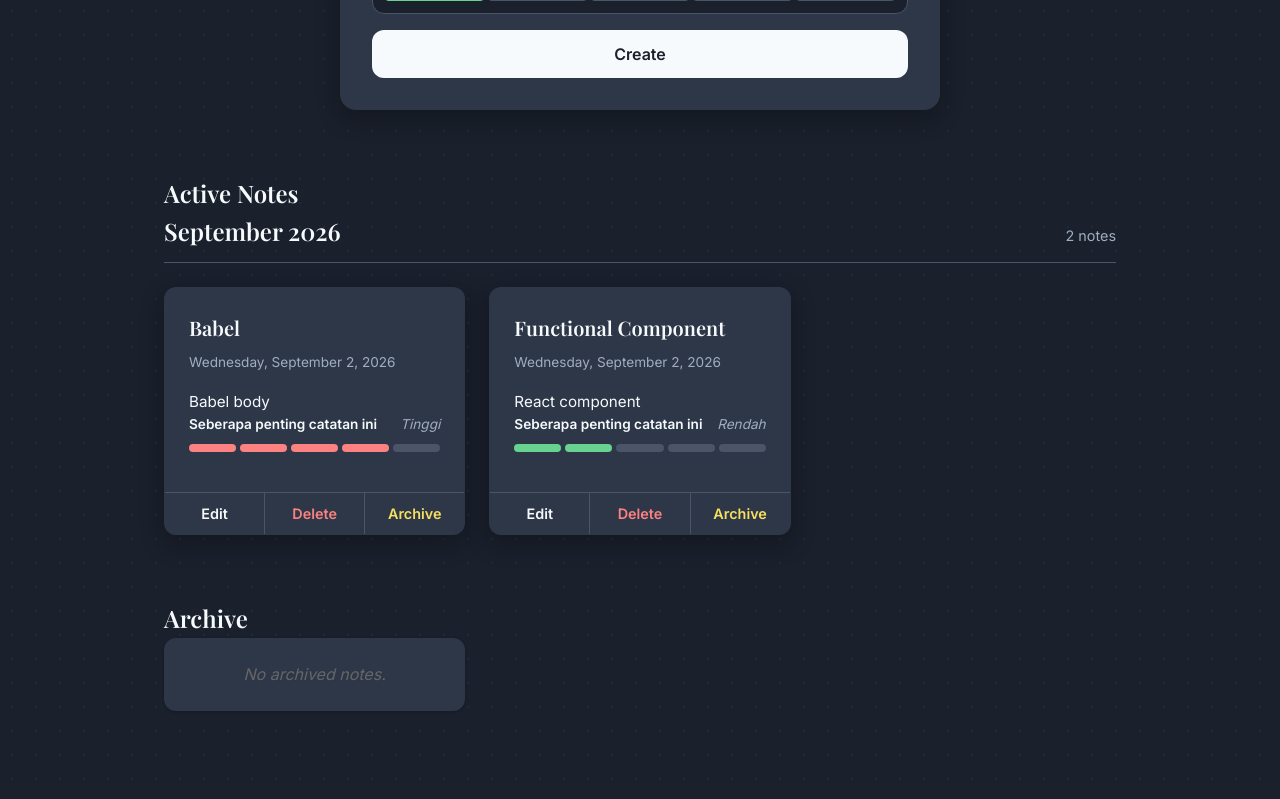
My Personal Notes App › user can delete a note
(page scrolled)
Check: the heading "Babel" is shown, box [189, 314, 240, 341]
Click the button with class "note-item__delete-button" below "Tinggi" at (315, 514), box [265, 493, 365, 534]
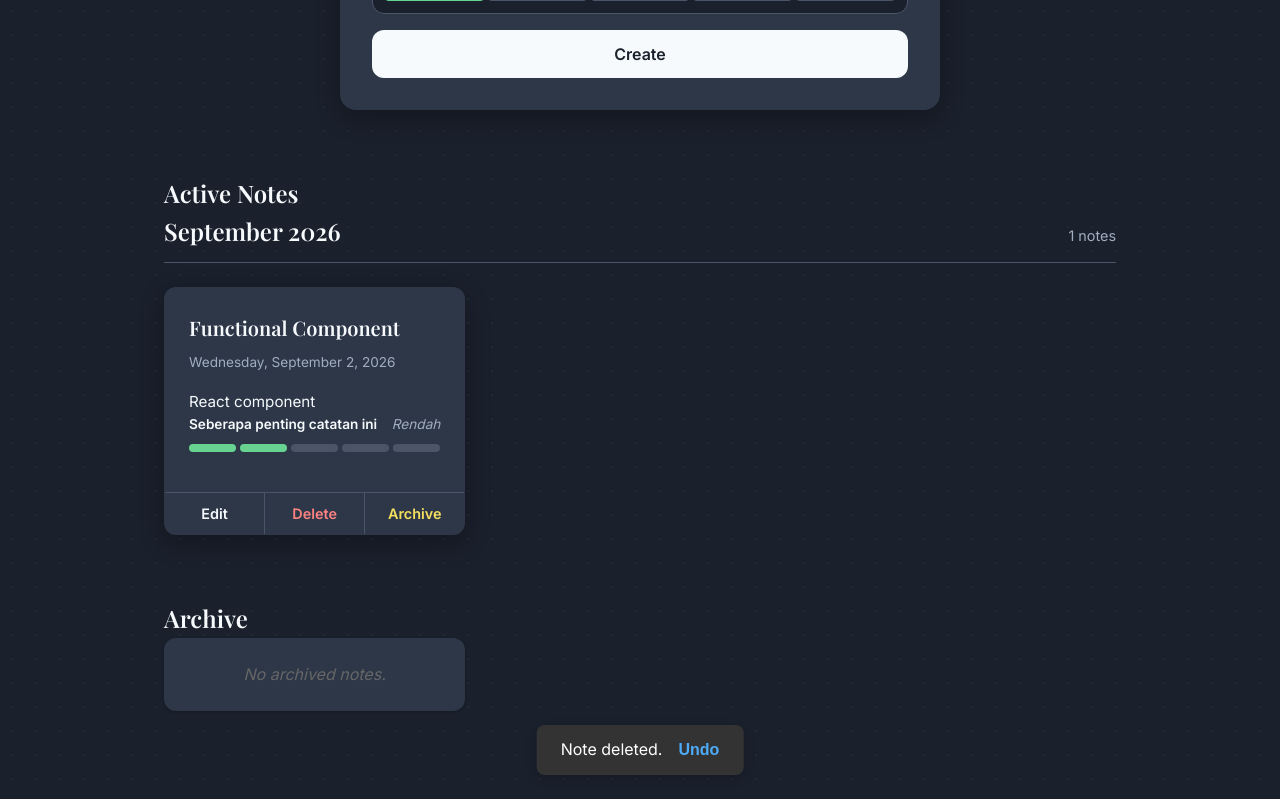
Check: the heading "Babel" is gone
Check: the text "Note deleted." is shown, box [561, 737, 662, 763]
